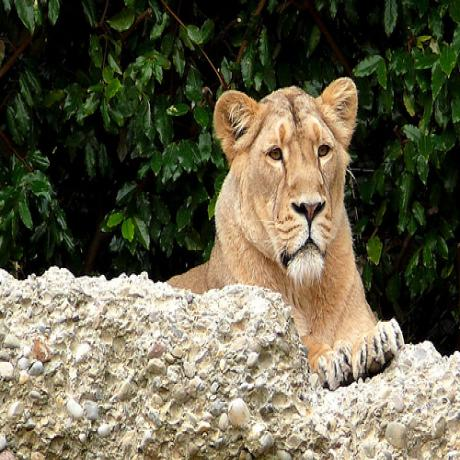Lion: (170, 77, 406, 384)
